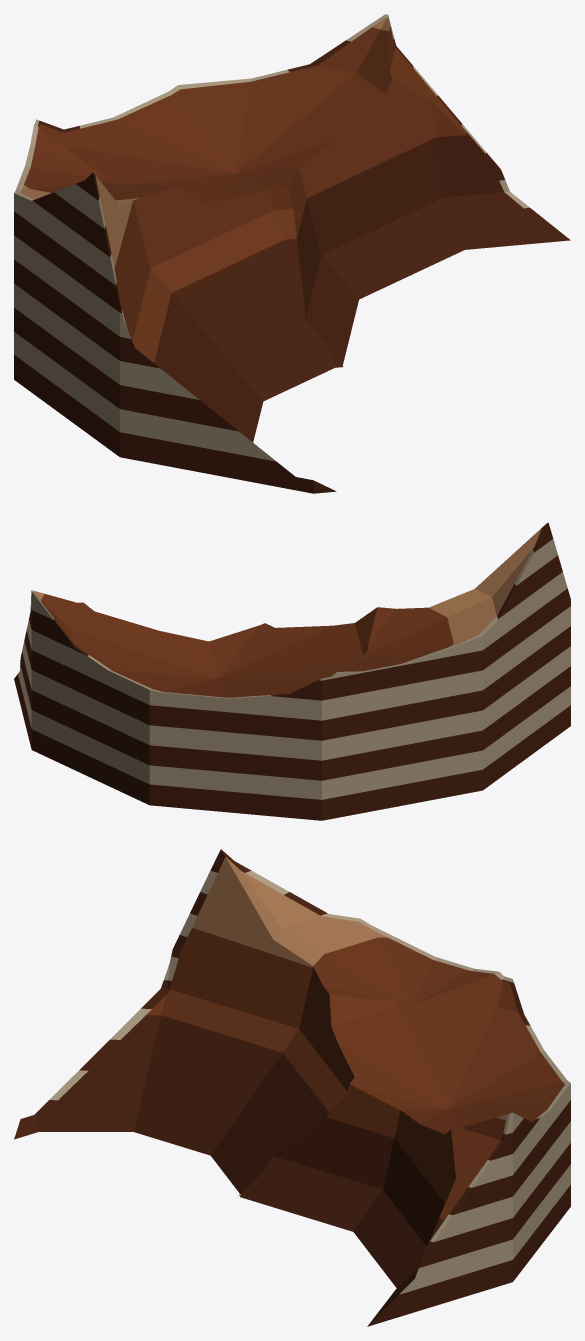
File: TripleChocolateState4.fbx
3 views of the same model, one above another, from view 1: azimuth 30°, elevation 25°; view 2: azimuth 150°, elevation 25°; view 3: azimuth 270°, elevation 25° (orthographic). The views are drawn at different scales.
Visible parts, largest first — view 1: TripleChocolateState4; view 2: TripleChocolateState4; view 3: TripleChocolateState4.
Part boxes in pixels (x1,y1,x2,y2): TripleChocolateState4: (14, 14, 570, 493); TripleChocolateState4: (14, 522, 570, 820); TripleChocolateState4: (14, 849, 570, 1326).
Size of the model in its own units: 75.49 by 34.13 by 73.23.
